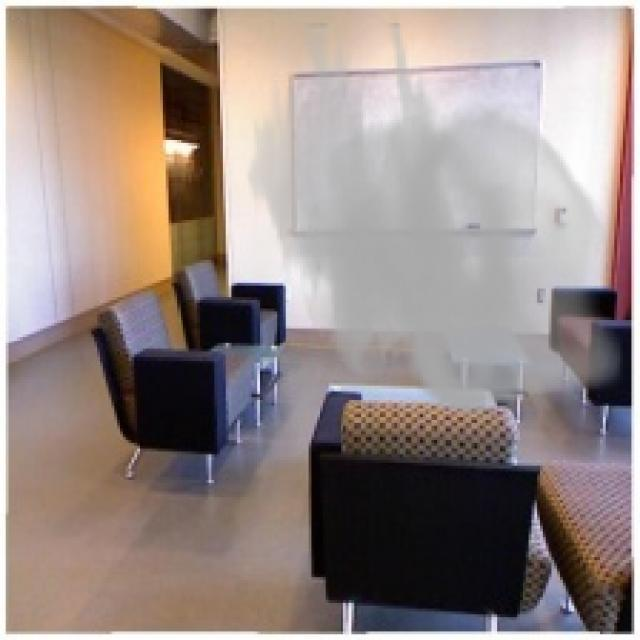Smoke: (243, 22, 623, 414)
